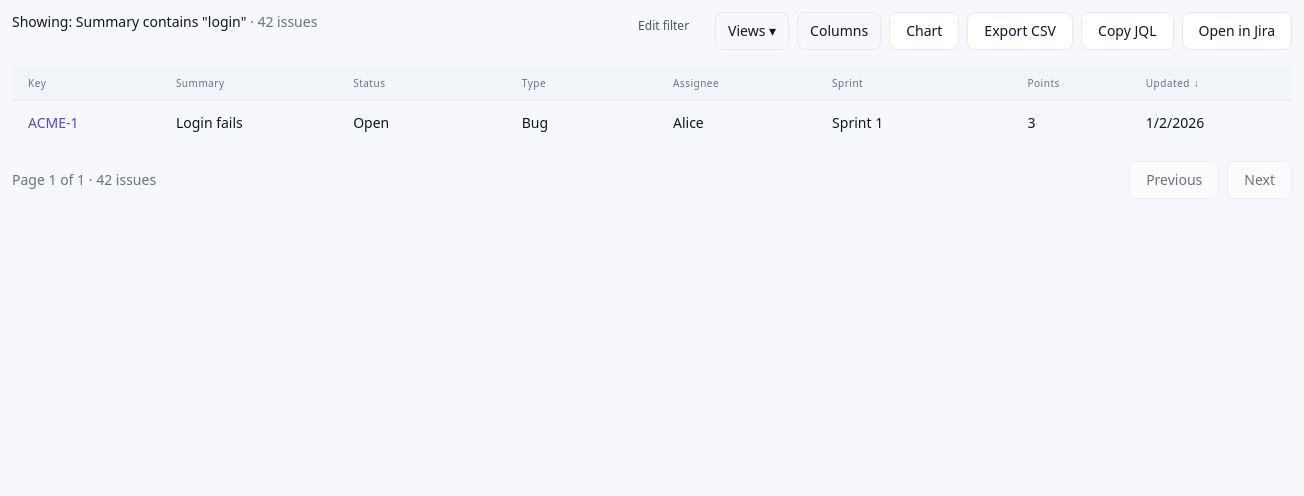
Test: the filter summary › expands and collapses on the toggle, and the sentence follows every edit
This screenshot has width=1304, height=496.
Step 1. Click the button "Edit filter" → (664, 26), box [628,12,699,40]
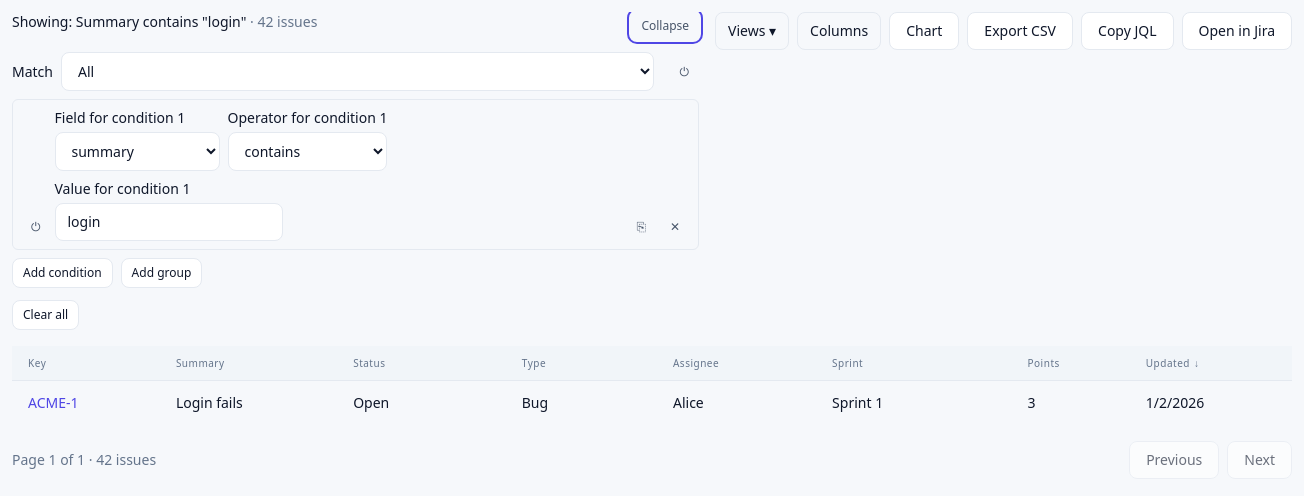
Step 2. Type "s" into the field labelled "Value for condition 1" → (168, 222), box [54,203,282,241]
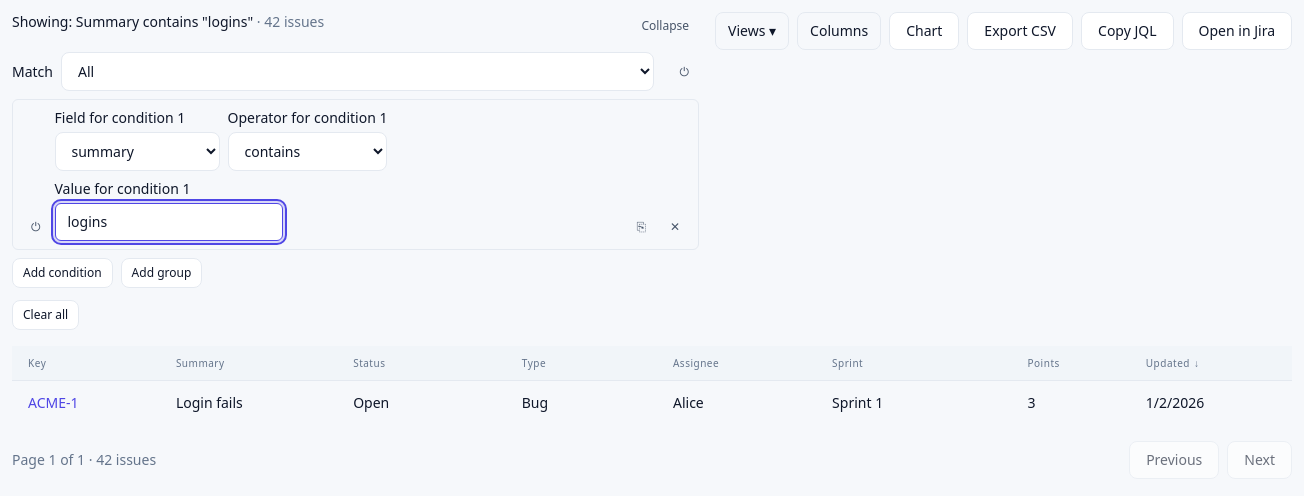
Now the element named "Filter summary" shows "Showing: Summary contains \"logins\"", box [12,12,699,40]
Step 3. Click the button "Collapse" → (665, 26), box [631,12,699,40]
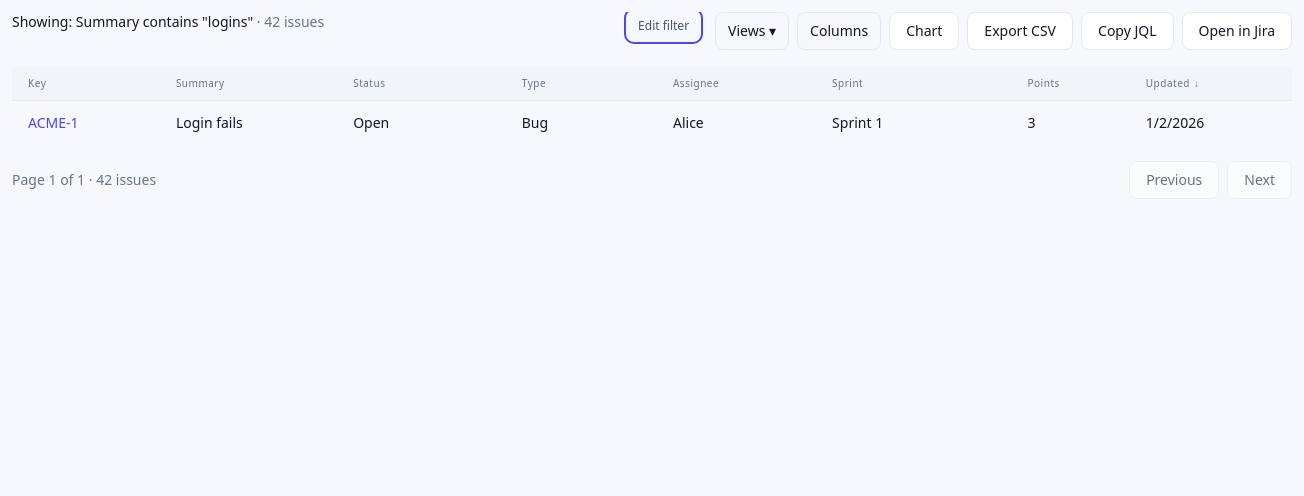
Now the element named "Filter summary" shows "Summary contains \"logins\"", box [76,12,253,31]
Now the label labelled "Value for condition 1" is gone
Now the button "Edit filter" is collapsed, box [628,12,699,40]
